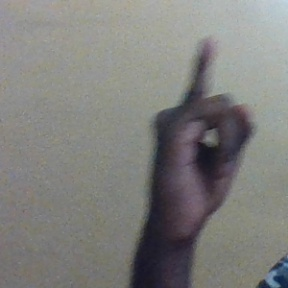I: (147, 38, 260, 230)
